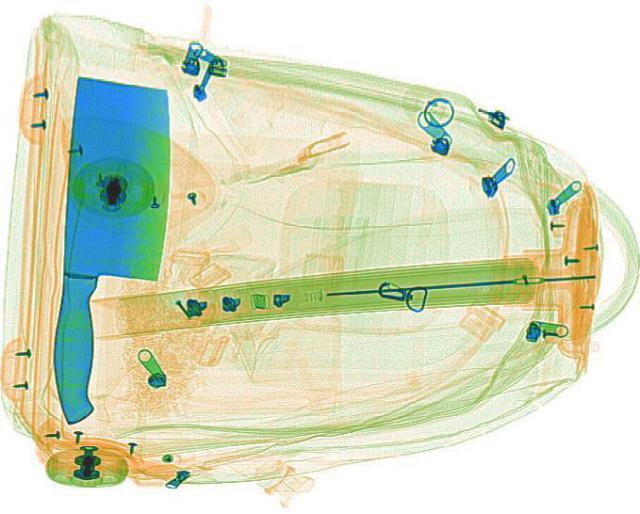Knife: (49, 73, 174, 423)
